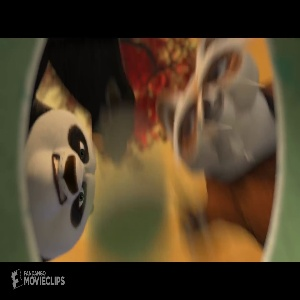po: (27, 99, 100, 258)
shifu: (160, 38, 276, 228)
